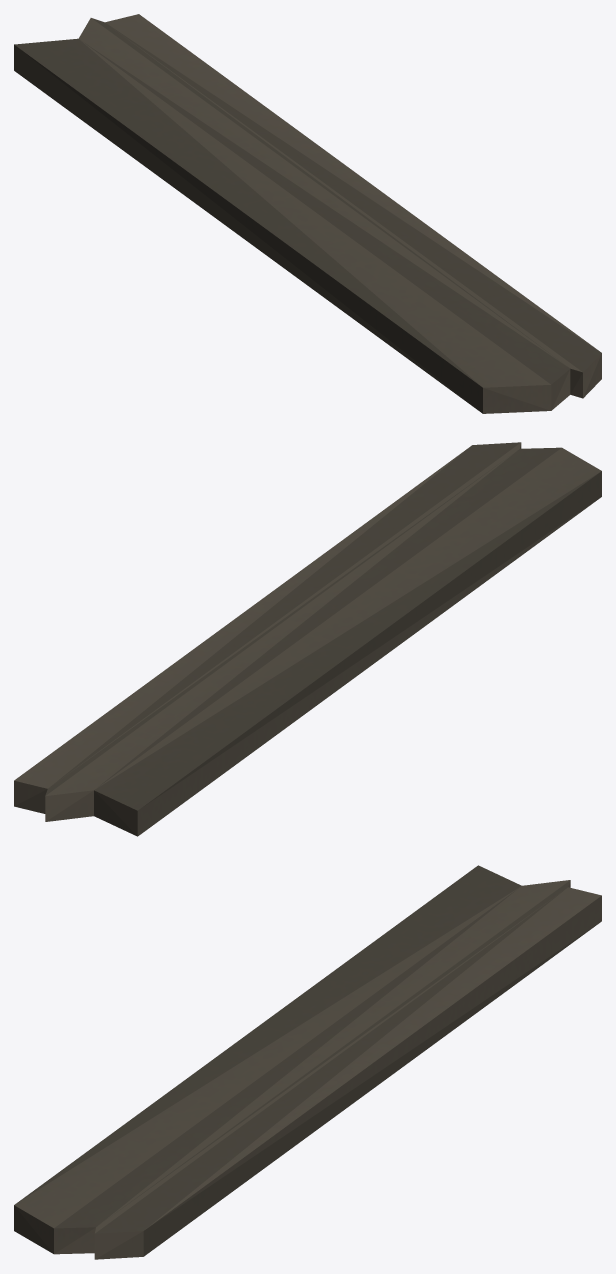
File: Wood_1C.fbx
The picture shows the model from 3 angles, top to bottom: view 1: azimuth 30°, elevation 25°; view 2: azimuth 150°, elevation 25°; view 3: azimuth 330°, elevation 25°; orthographic projection.
Parts seen in each view (by area): view 1: pCube992; view 2: pCube992; view 3: pCube992.
Part boxes in pixels (x1,y1,x2,y2): pCube992: [14, 14, 601, 413]; pCube992: [14, 442, 601, 836]; pCube992: [14, 865, 601, 1259].
Size of the model in its own units: 0.5 by 0.1 by 3.4.
